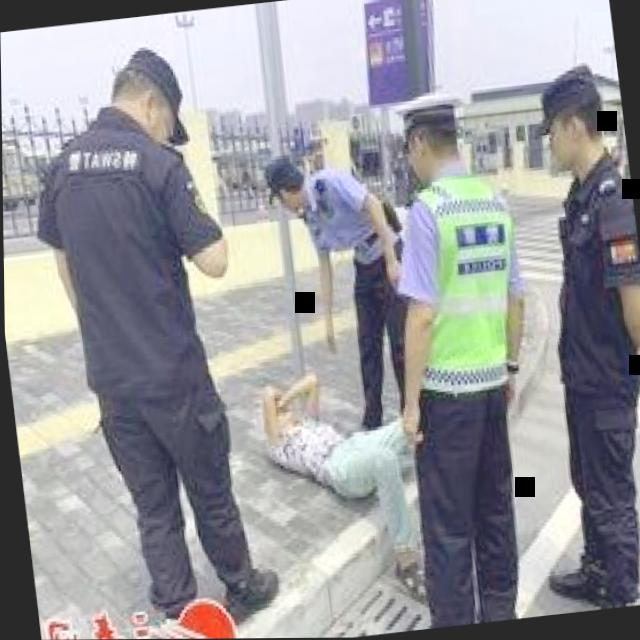Fall-Detected: (250, 339, 445, 599)
